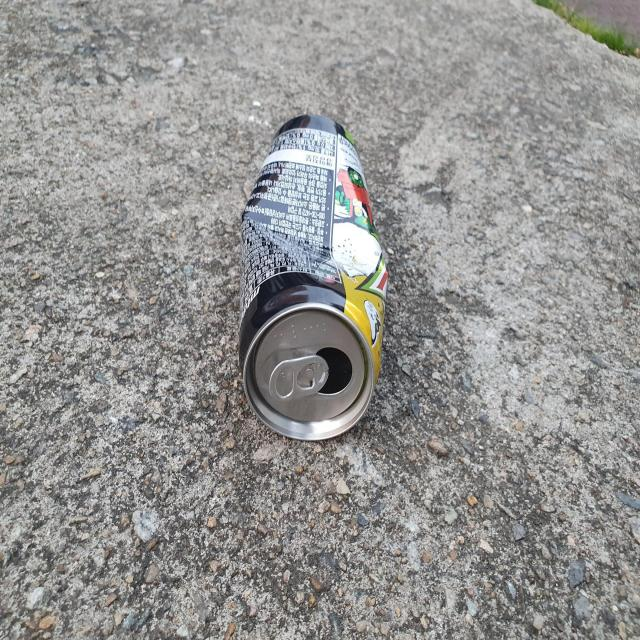can: (239, 114, 388, 440)
